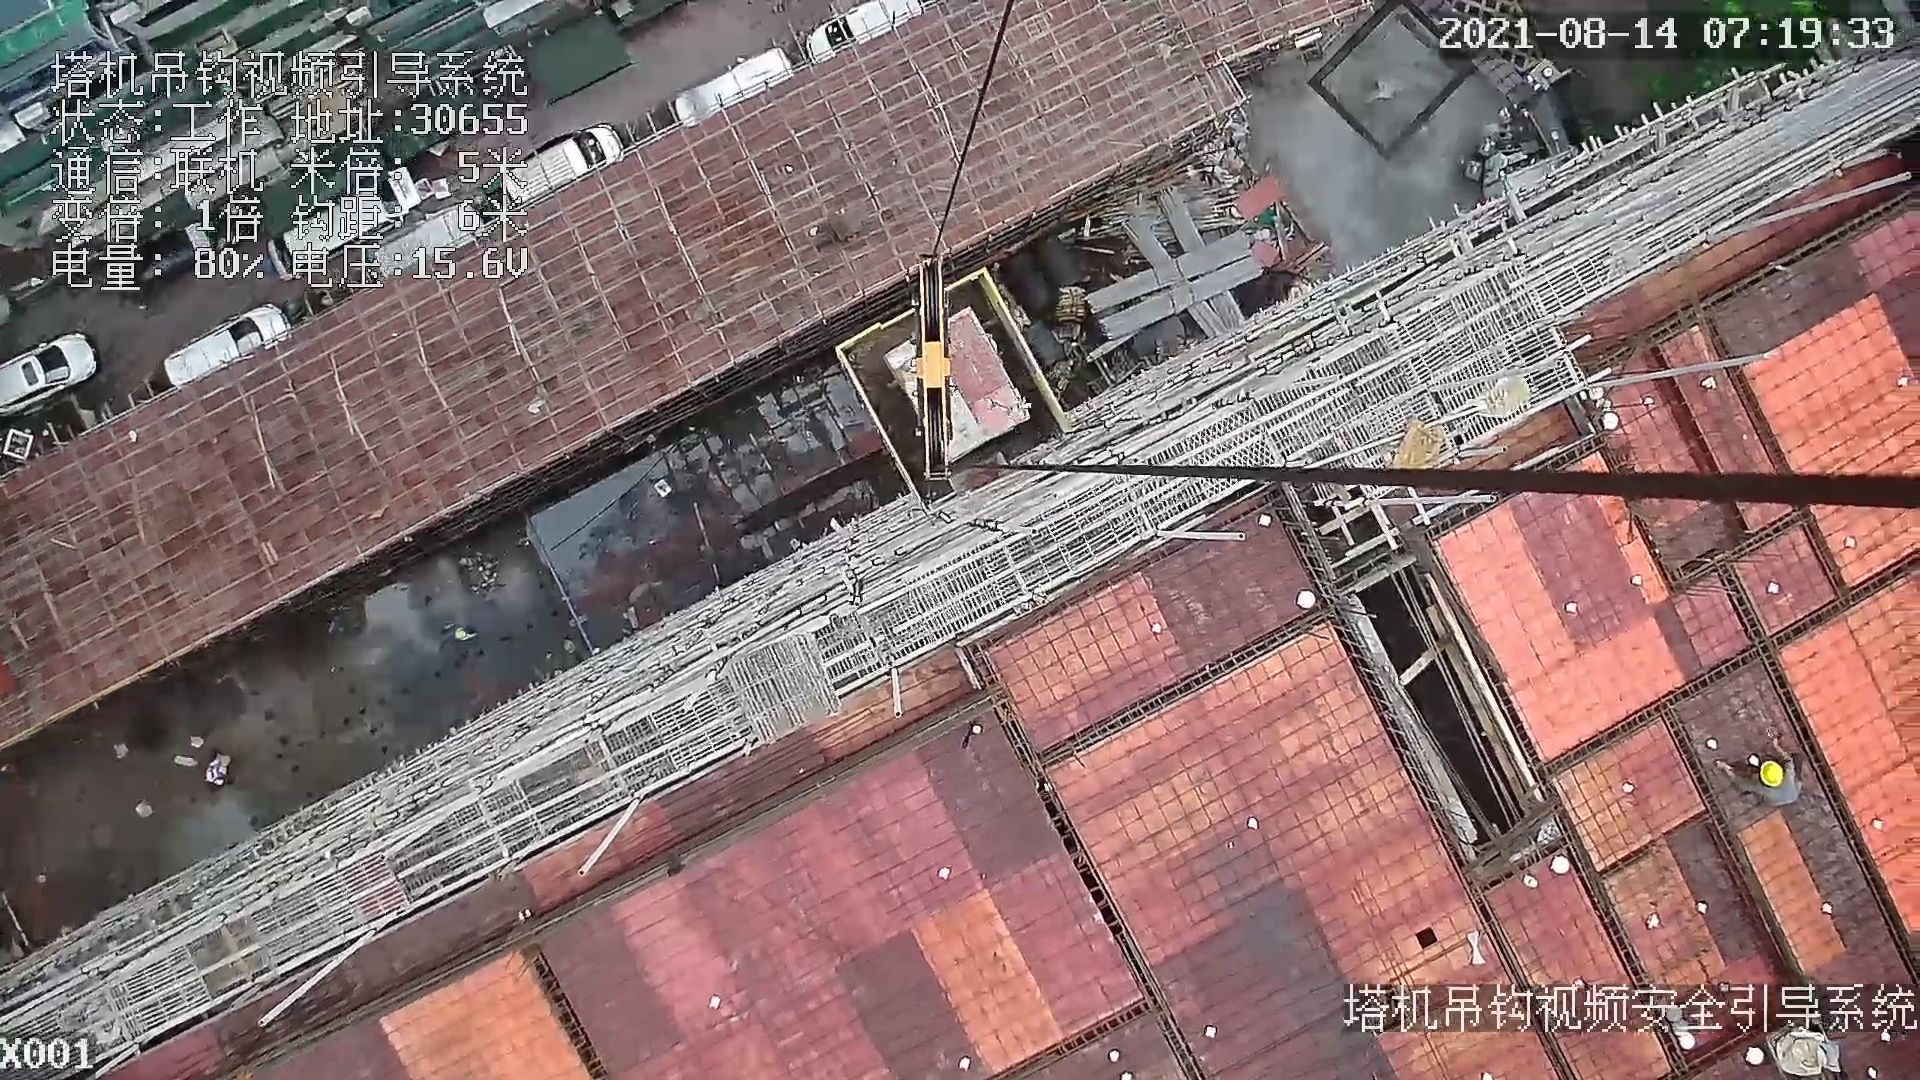helmet: (1755, 758, 1786, 793)
hook: (901, 251, 968, 489)
person: (1723, 741, 1808, 809)
